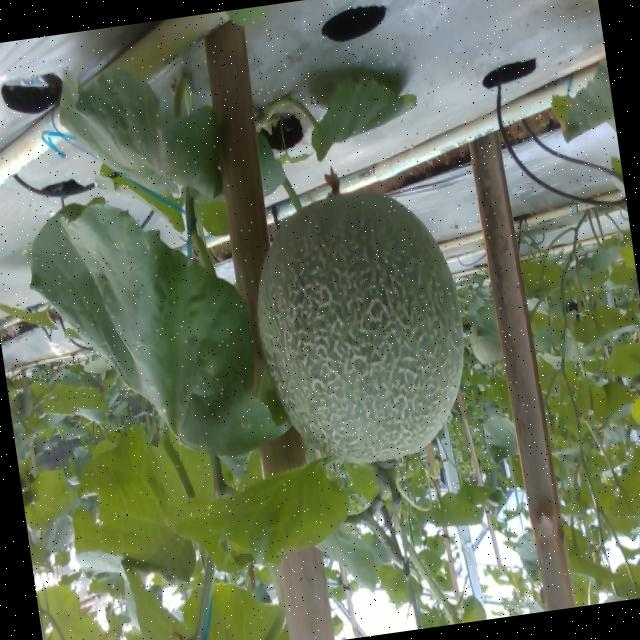melon: (256, 191, 462, 463)
